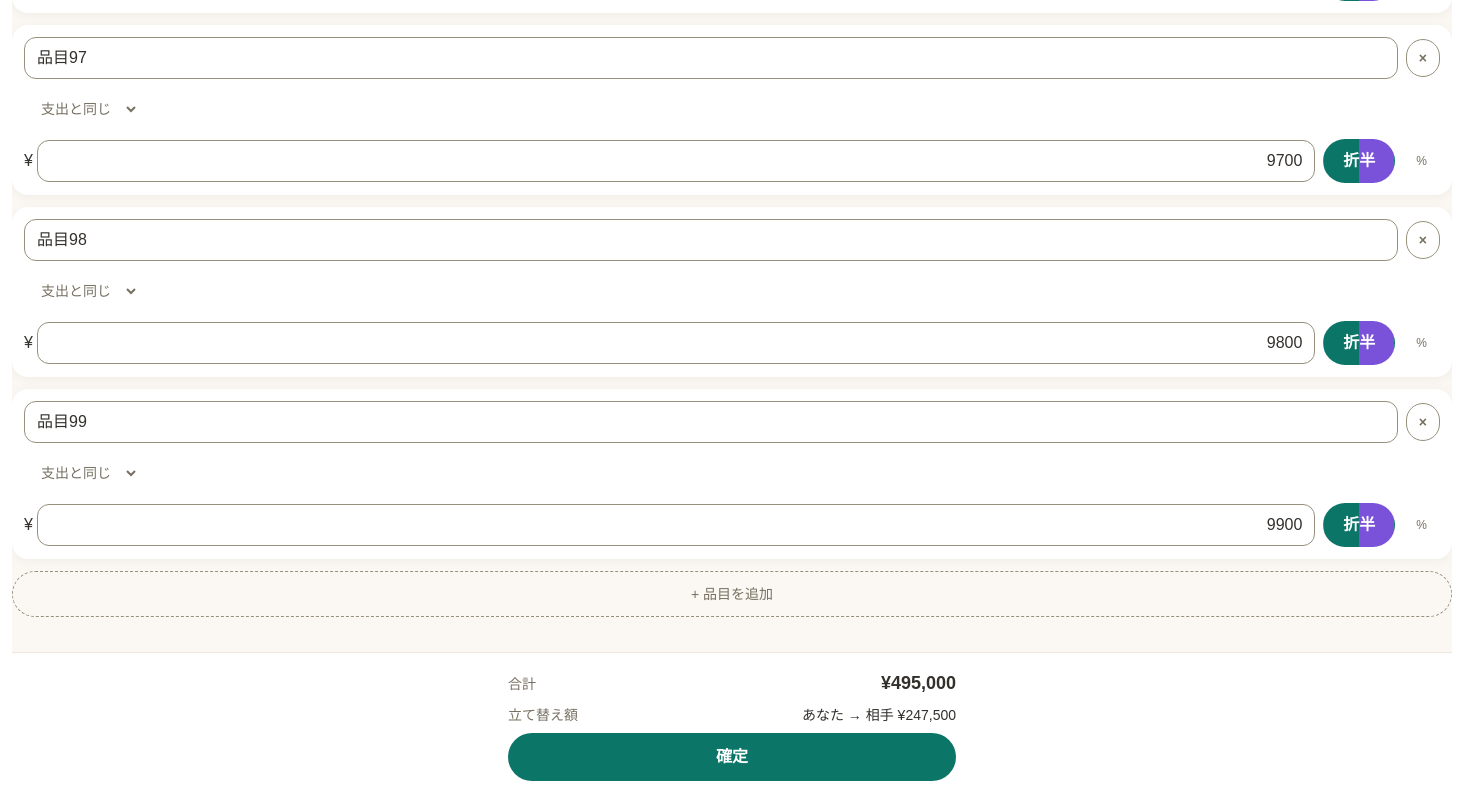
品目が99件なら1件追加でき、100件で上限に達する
(page scrolled)
Click the button "+ 品目を追加".
click(732, 594)  # box [12,571,1452,617]
(page scrolled)
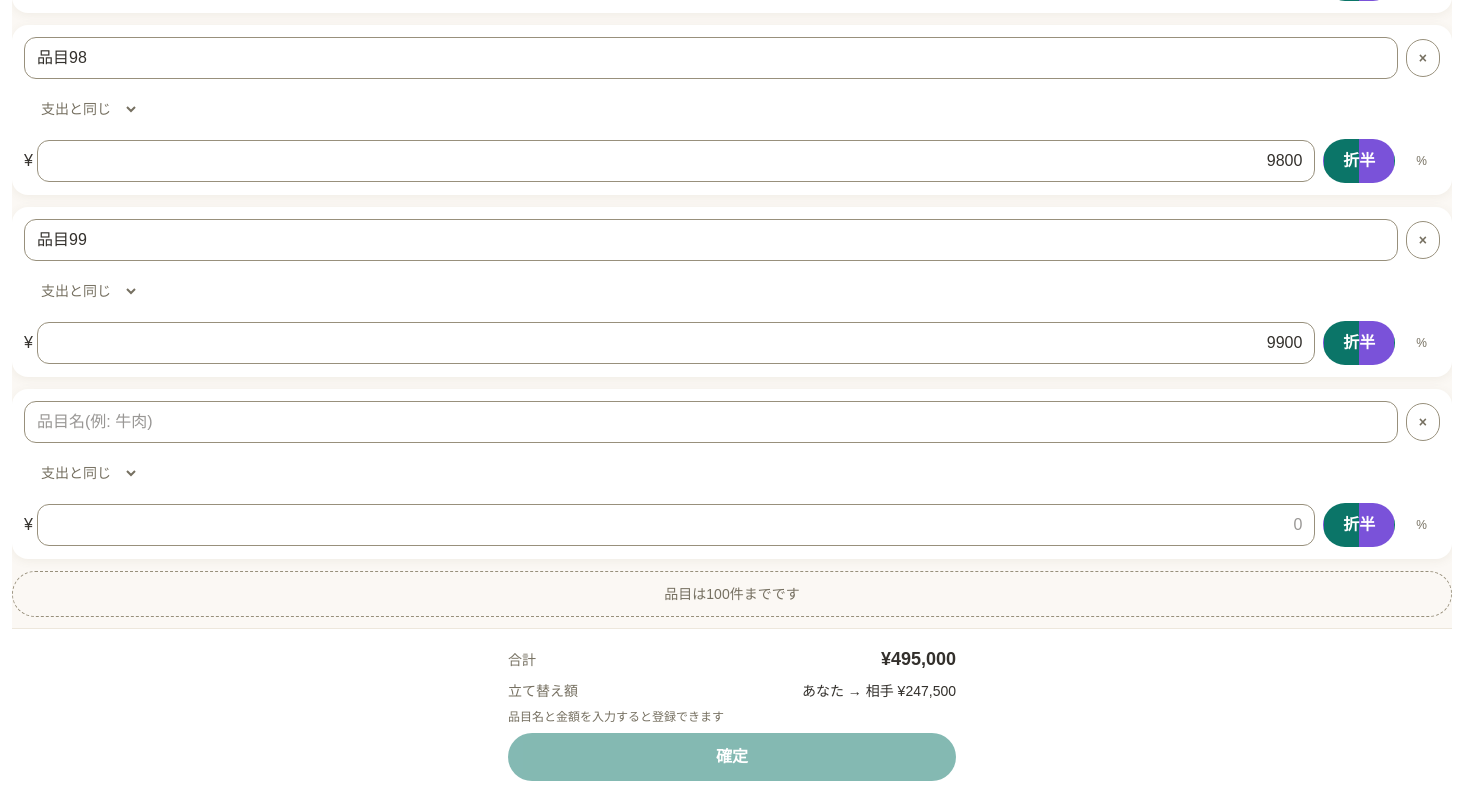
Now the button "品目は100件までです" is disabled, box [12,571,1452,617]
